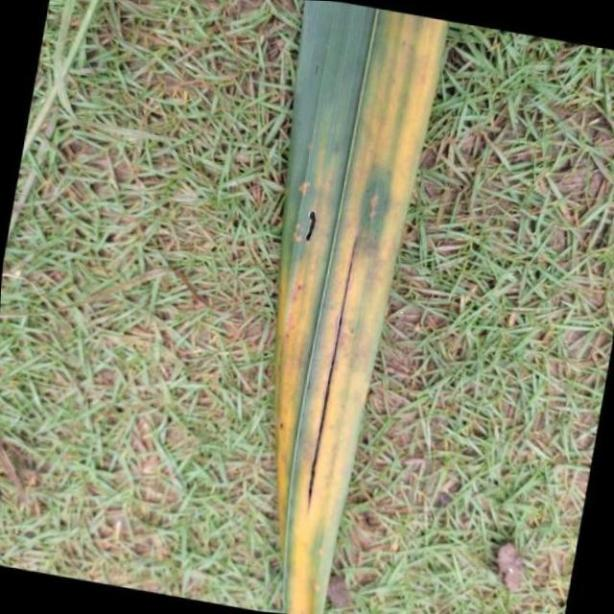Megnesium: (267, 0, 451, 614)
